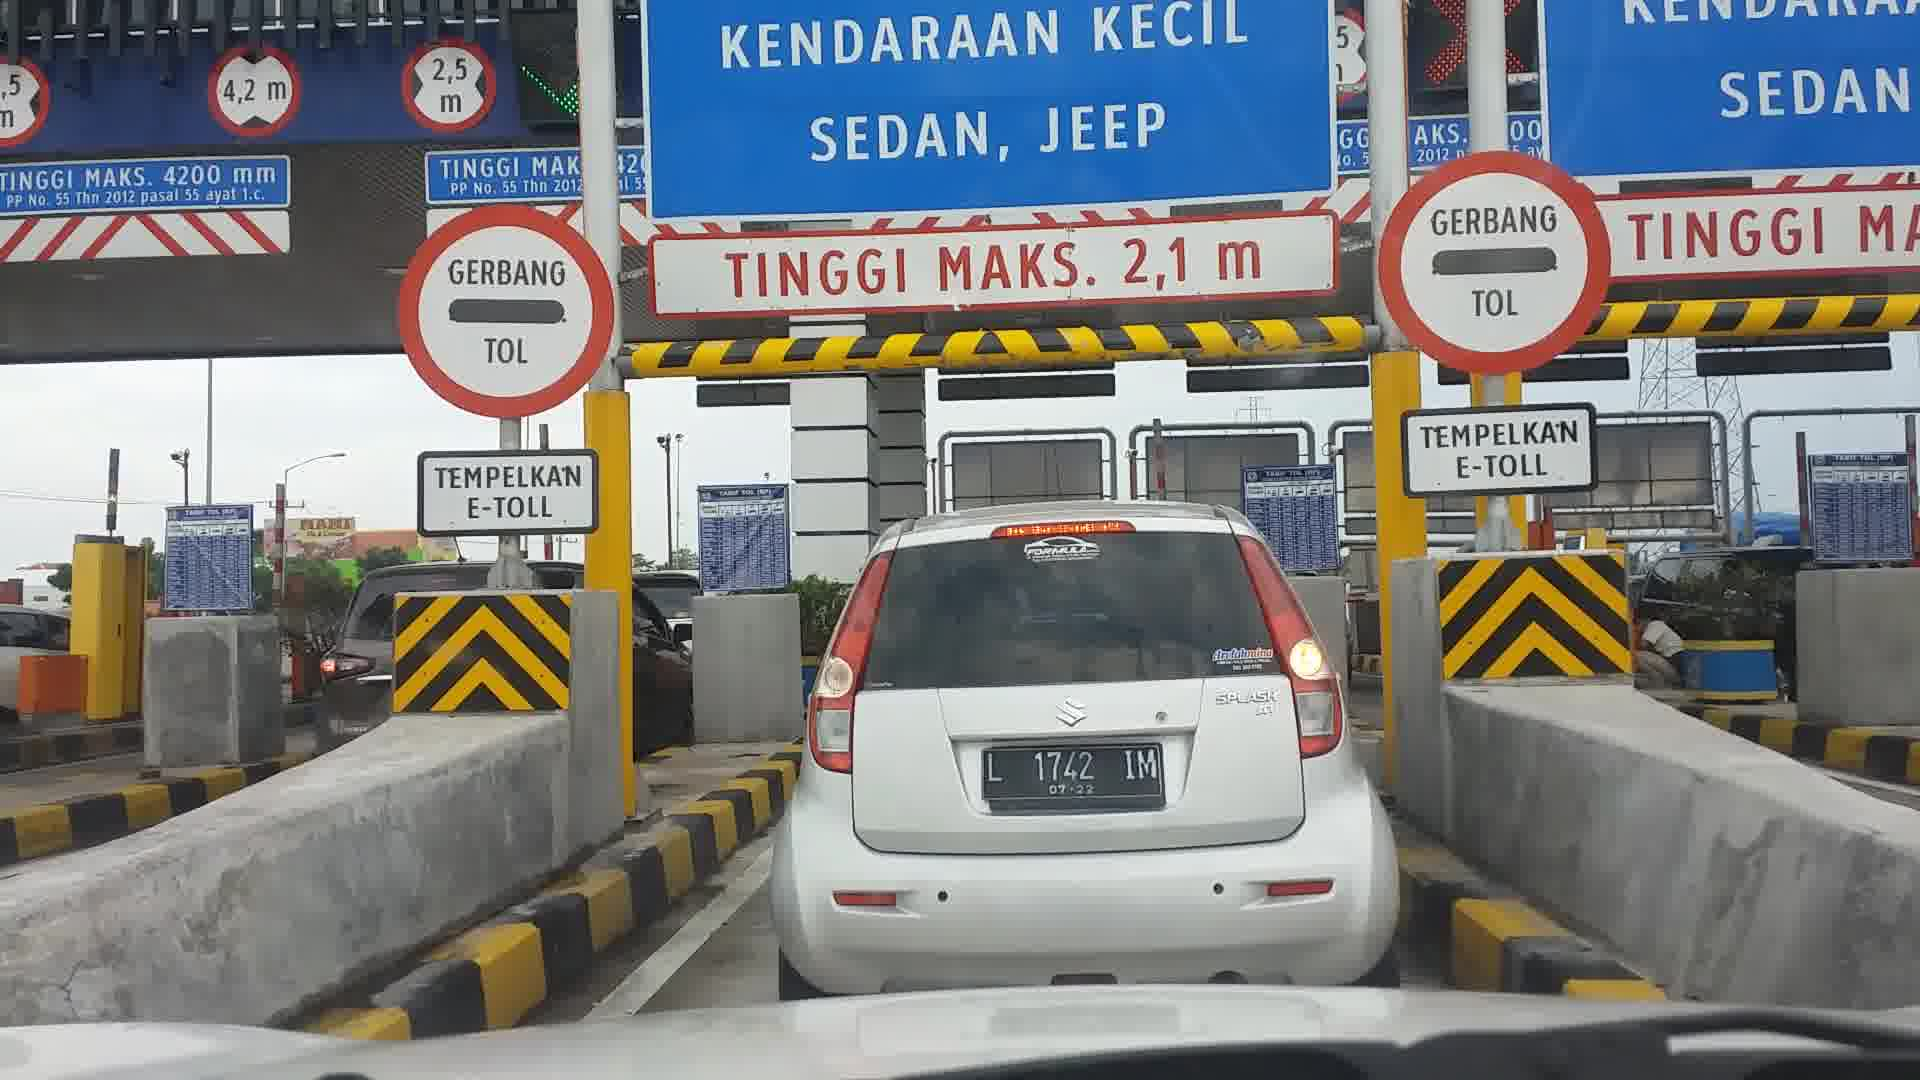plate_positive: (980, 742, 1163, 814)
